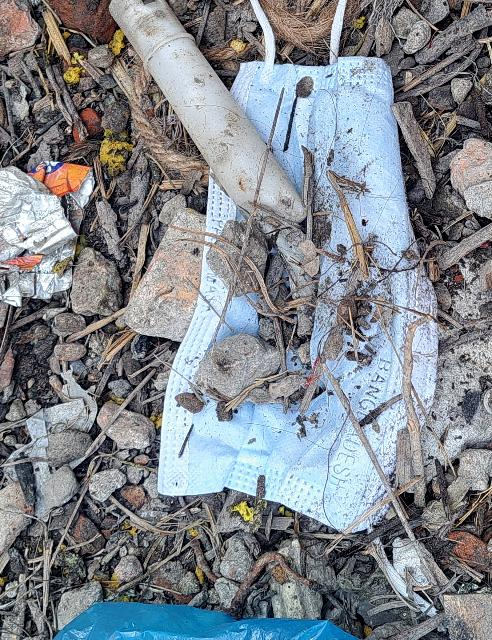mask: (164, 54, 419, 543)
